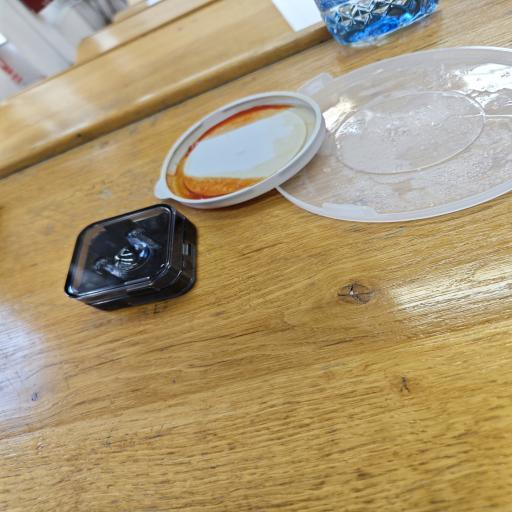Headphones: (59, 200, 206, 314)
